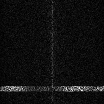wifi: (1, 85, 104, 92)
